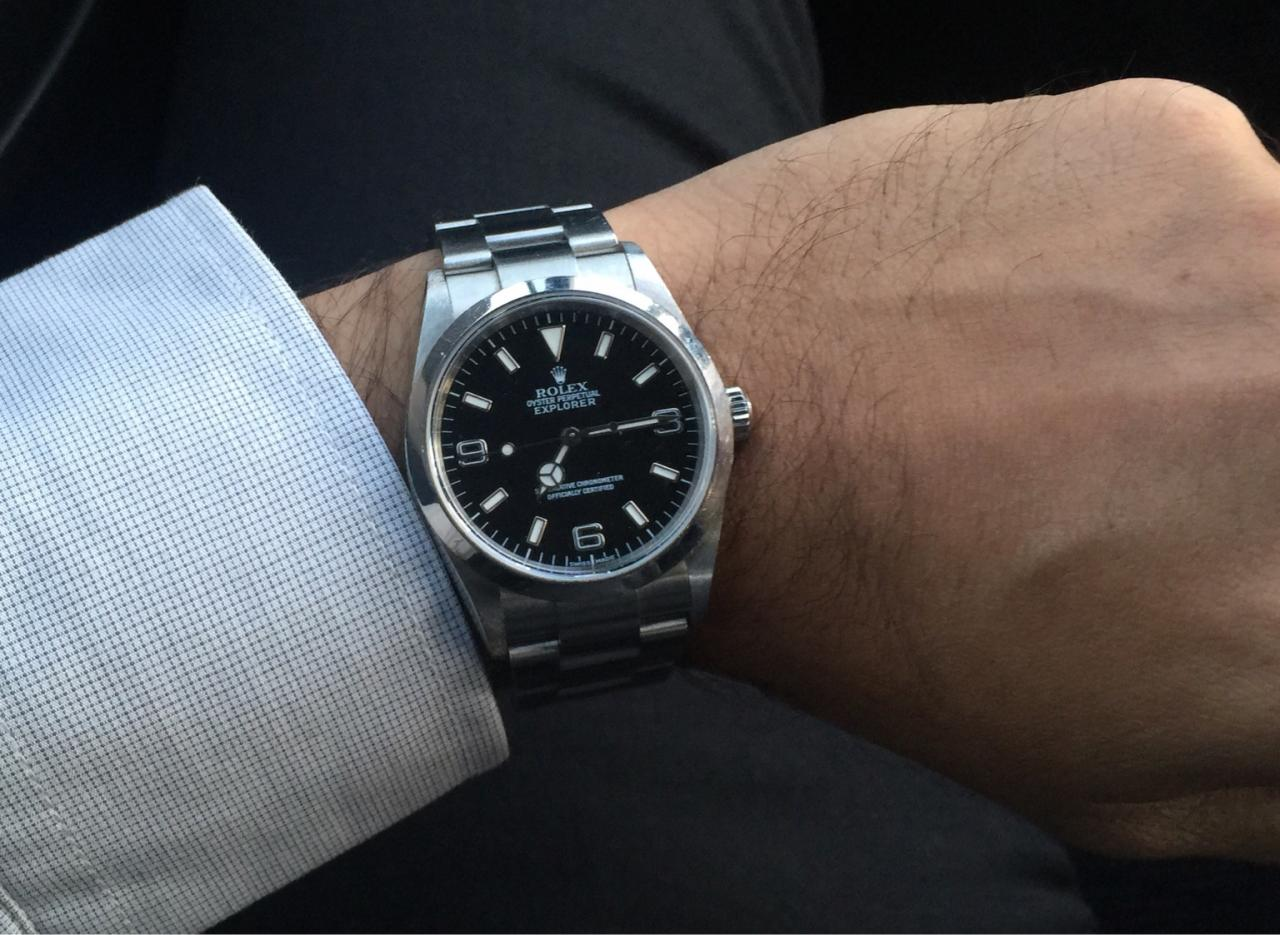clock: (435, 298, 709, 576)
